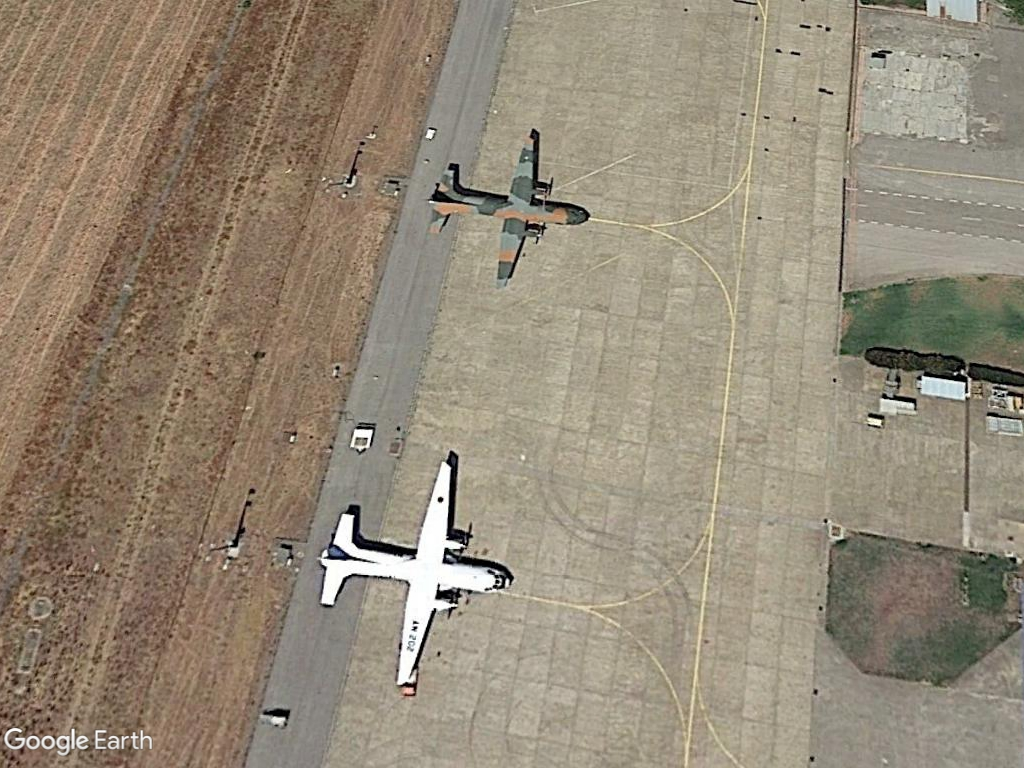propeller: (310, 449, 525, 699), (422, 122, 592, 294)
